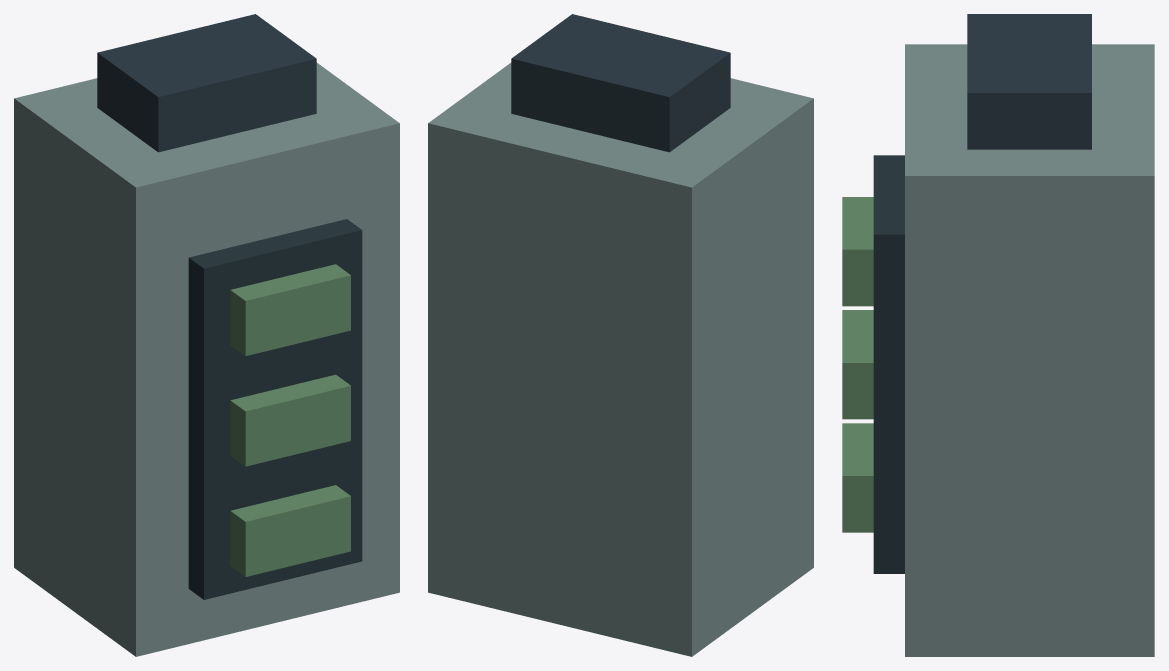
File: robotics-09.glb
The picture shows the model from 3 angles, left to right: view 1: azimuth 30°, elevation 25°; view 2: azimuth 150°, elevation 25°; view 3: azimuth 270°, elevation 25°; orthographic projection. The views are drawn at different scales.
Parts seen in each view (by area): view 1: Charging dock; view 2: Charging dock; view 3: Charging dock.
Part boxes in pixels (<box>): Charging dock: <box>14,14,399,656</box>; Charging dock: <box>428,14,813,656</box>; Charging dock: <box>842,14,1154,656</box>.
Bounding box in the file's own units: 0.8 × 1.52 × 0.8.
